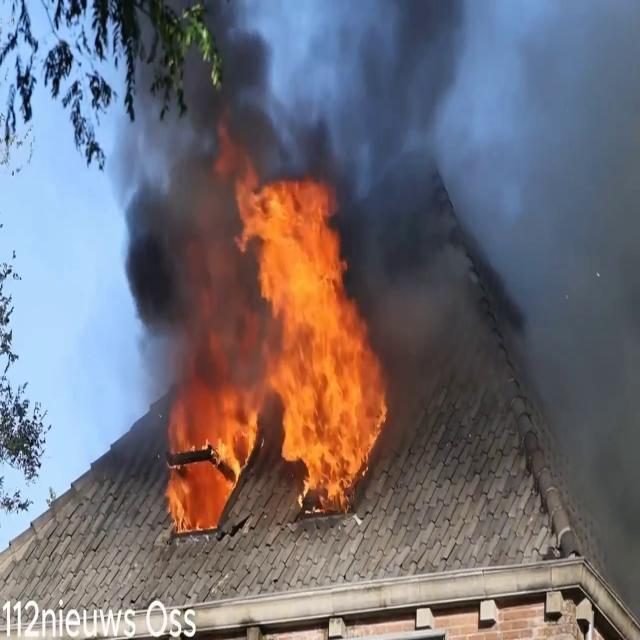Fire: (163, 164, 389, 532)
Smoke: (346, 1, 640, 526), (101, 1, 279, 342)
